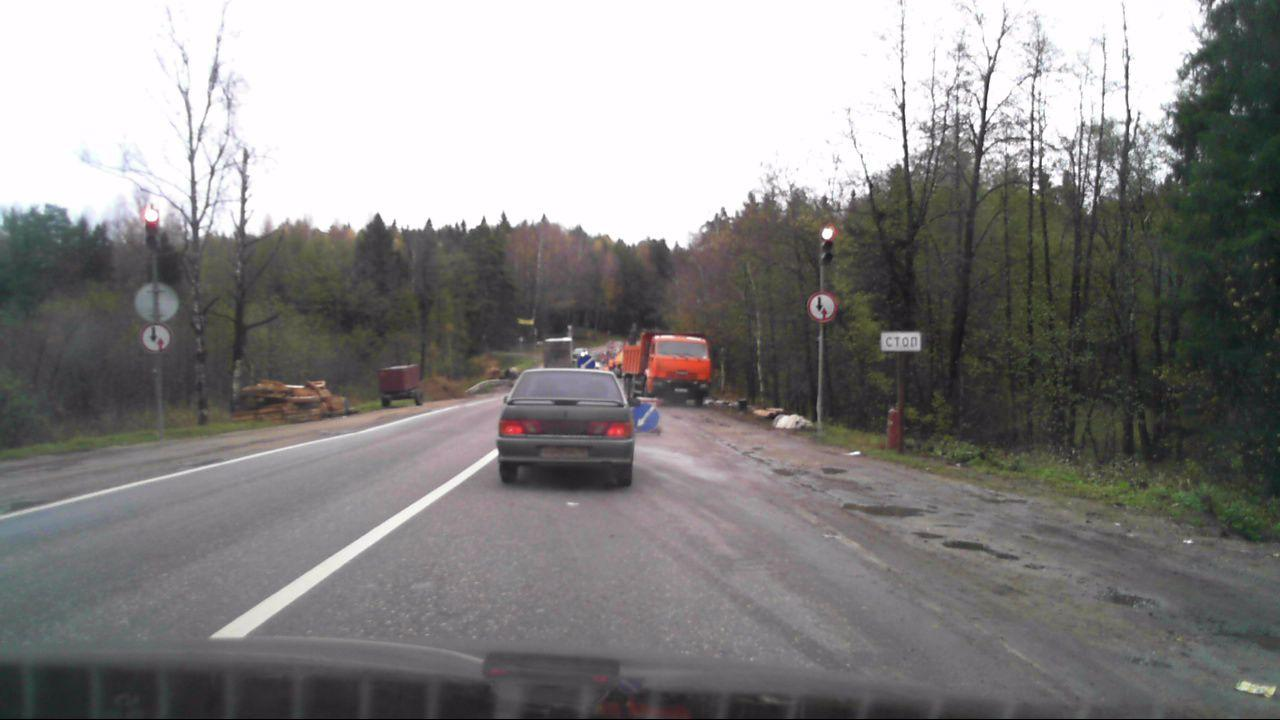2_6: (140, 323, 174, 353), (805, 291, 837, 322)
4_2_2: (577, 352, 595, 371)
6_16: (879, 331, 922, 352)
